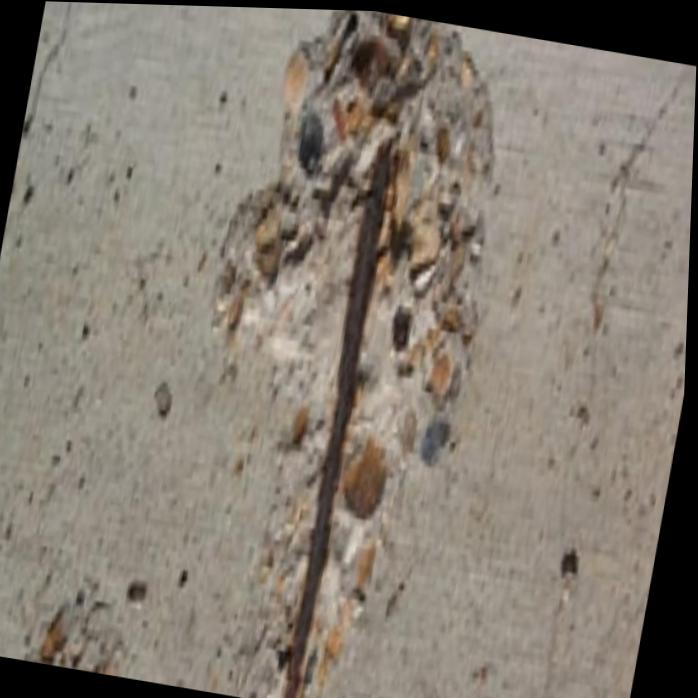crack: (591, 75, 688, 334), (10, 2, 74, 211)
damage: (219, 7, 499, 698)
